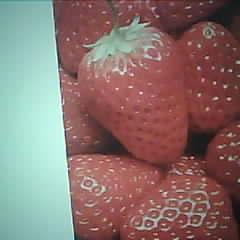straw-ripe: (79, 27, 189, 162)
